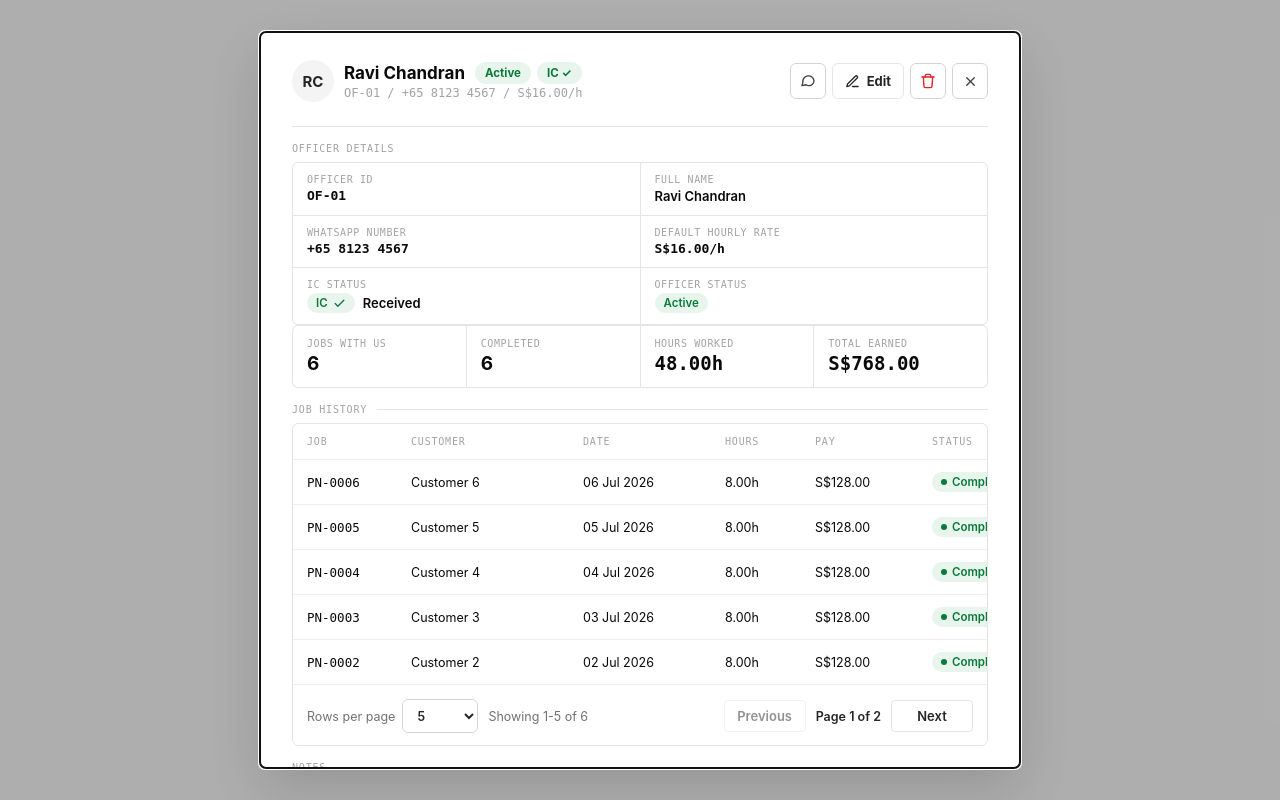
OfficerDetailModal › paginates job history with five records by default
Check: the text "Showing 1-5 of 6" is shown, box [488,708,588,724]
Check: the text "PN-0006" is shown, box [307,474,360,490]
Click the button "Next".
click(932, 716)  # box [891,700,973,732]
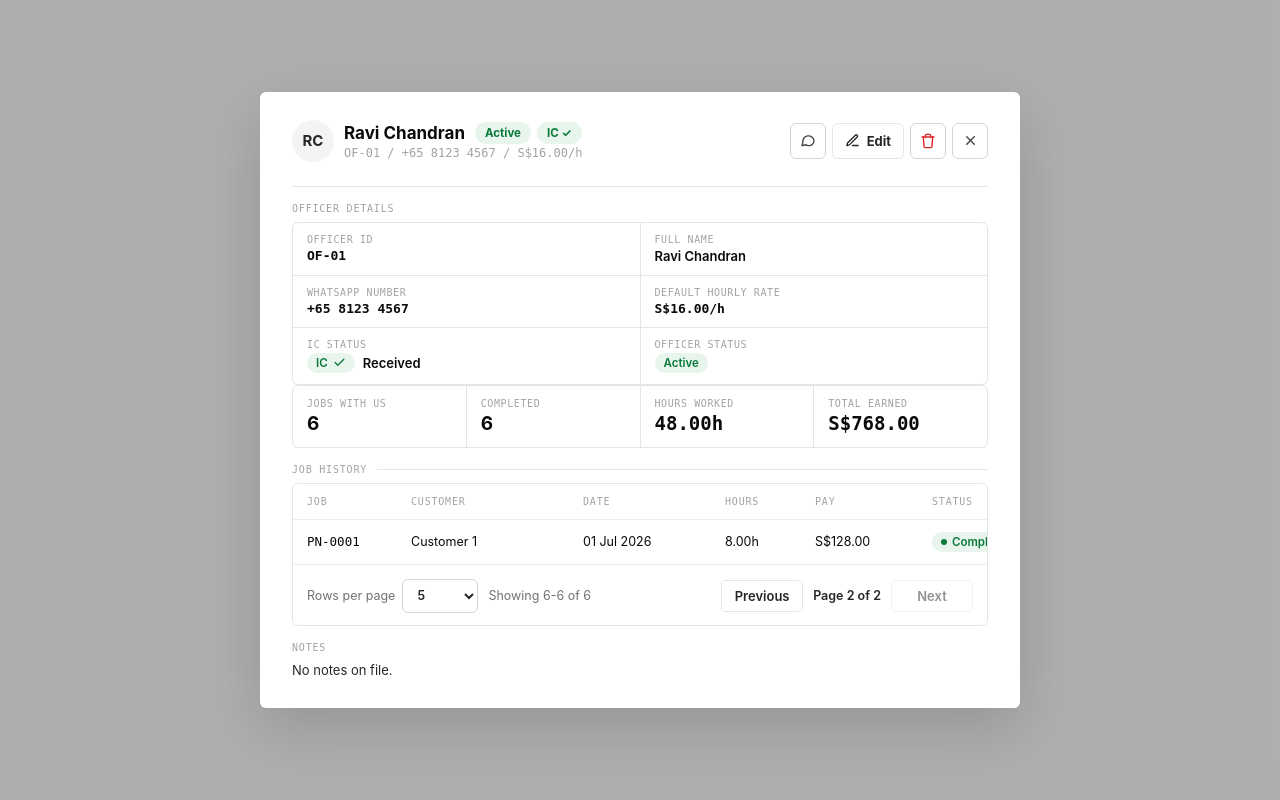
Check: the text "Showing 6-6 of 6" is shown, box [488,588,591,603]
Check: the text "PN-0001" is shown, box [307,534,360,549]
Check: the button "PN-0006" is gone
